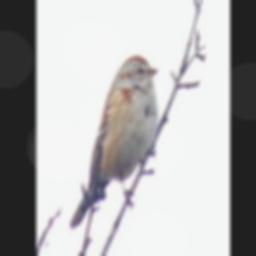Sparrow: (67, 53, 158, 230)
